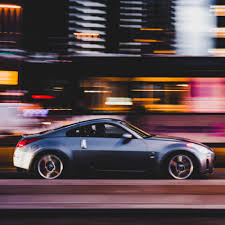car: (13, 118, 215, 181)
